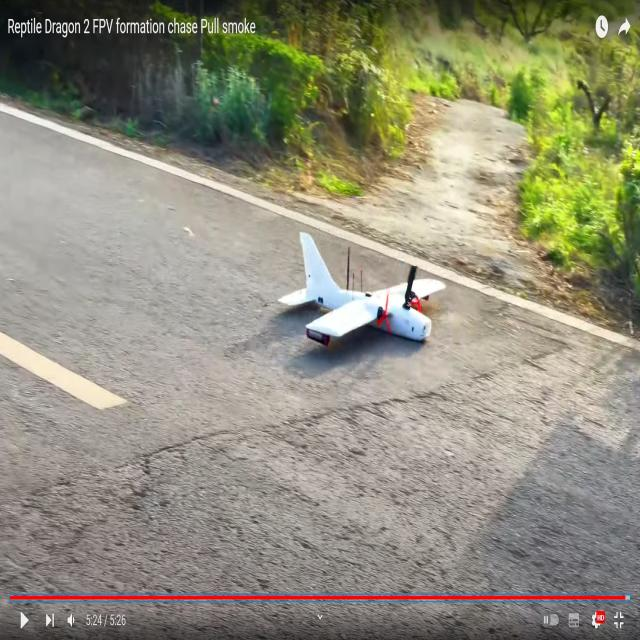iha: (289, 258, 434, 320)
